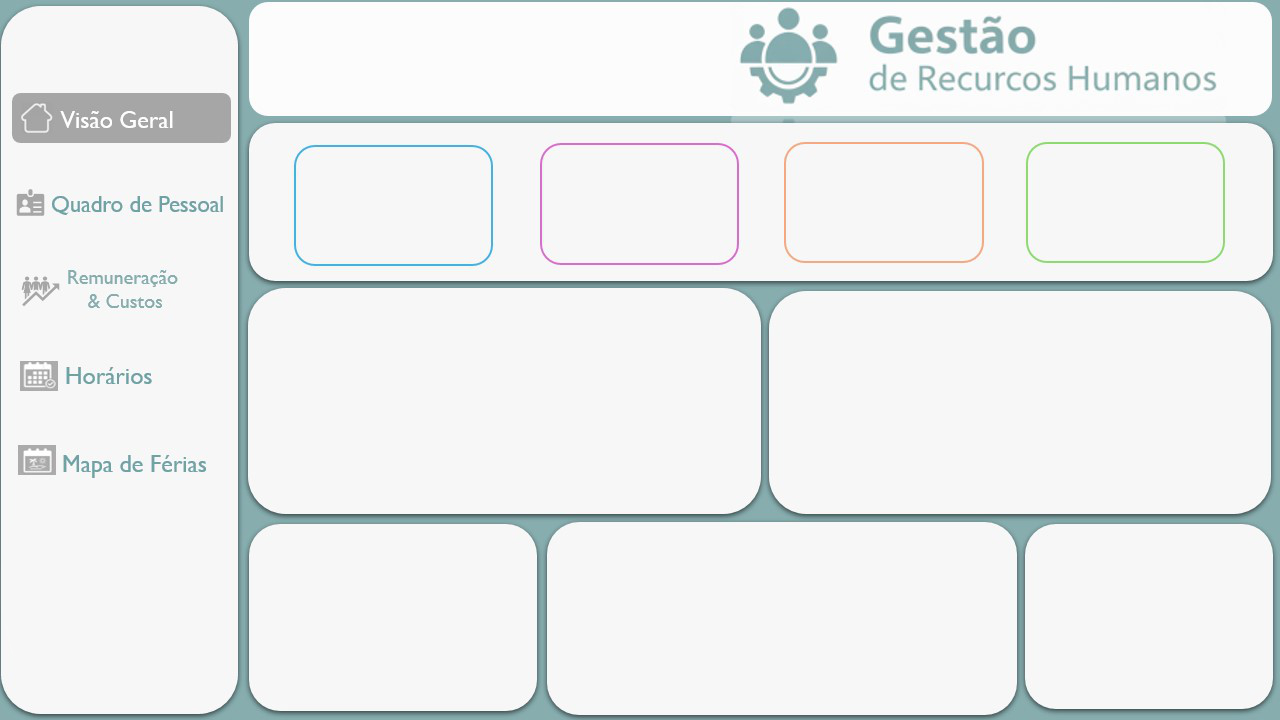

What the dashboard file says about the page in this screenshot:
{"tool":"powerbi","page":{"name":"Visão Geral","canvas":[1280,720],"ordinal":0},"visuals":[{"type":"multiRowCard","fields":{"Values":["Medidas.Total de Funcionario"]},"box":[298.6,158.9,187.6,89.9],"z":0},{"type":"cardVisual","fields":{"Data":["Medidas.Custo Bimestral"]},"box":[543.6,158.9,189.5,88],"z":1000},{"type":"multiRowCard","fields":{"Values":["Medidas.Funcionário em Próximas Férias","Medidas.Próxima Data de Férias"]},"box":[786.7,147.4,214.4,120.6],"z":2000},{"type":"actionButton","box":[0,0,100,40],"z":3000},{"type":"multiRowCard","fields":{"Values":["Medidas.Funcionários Ativos","Medidas.Funcionários Desligados"]},"box":[1037.4,145.5,195.2,109.1],"z":4000},{"type":"clusteredColumnChart","title":"Custo total por funcionário por Cargo","fields":{"Category":["Cargo.Cargo"],"Y":["Média de Antiguidade anos.Custo total por funcionario"]},"box":[260,293.8,515.4,221.5],"z":5000},{"type":"tableEx","fields":{"Values":["Cargo.Cargo","Média de Antiguidade anos.Total de Horas Trabalhadas"]},"box":[798.6,292.4,456.8,210.2],"z":6000},{"type":"clusteredColumnChart","fields":{"Category":["Localidade.Localidade"],"Y":["Média de Antiguidade anos.Total Minutos de Atraso"]},"box":[555.4,529.2,456.9,190.8],"z":7000},{"type":"multiRowCard","fields":{"Values":["Medidas.Próximo Aniversariante","Medidas.Próxima Data Aniversário"]},"box":[253.8,538.5,286.2,160],"z":8000},{"type":"tableEx","title":"Funcionário em Férias","fields":{"Values":["Base de funcionarios.Nome Completo","Cargo.Cargo","Média de Antiguidade anos.Funcionários Ausentes Hoje"]},"box":[1027.7,538.5,236.8,159.7],"z":9000}]}

Visuals, with their boxes on the page's 1280x720 design canvas (x1, y1, x2, y2). These are canvas units, not pixel positions in the 1280x720 screenshot, which may show the page scaled, cropped or inside an application window:
multiRowCard - Medidas.Total de Funcionario: (299,159,486,249)
cardVisual - Medidas.Custo Bimestral: (544,159,733,247)
multiRowCard - Medidas.Funcionário em Próximas Férias x Medidas.Próxima Data de Férias: (787,147,1001,268)
actionButton: (0,0,100,40)
multiRowCard - Medidas.Funcionários Ativos x Medidas.Funcionários Desligados: (1037,146,1233,255)
"Custo total por funcionário por Cargo" clusteredColumnChart: (260,294,775,515)
tableEx - Cargo.Cargo x Média de Antiguidade anos.Total de Horas Trabalhadas: (799,292,1255,503)
clusteredColumnChart - Localidade.Localidade x Média de Antiguidade anos.Total Minutos de Atraso: (555,529,1012,720)
multiRowCard - Medidas.Próximo Aniversariante x Medidas.Próxima Data Aniversário: (254,538,540,698)
"Funcionário em Férias" tableEx: (1028,538,1264,698)
